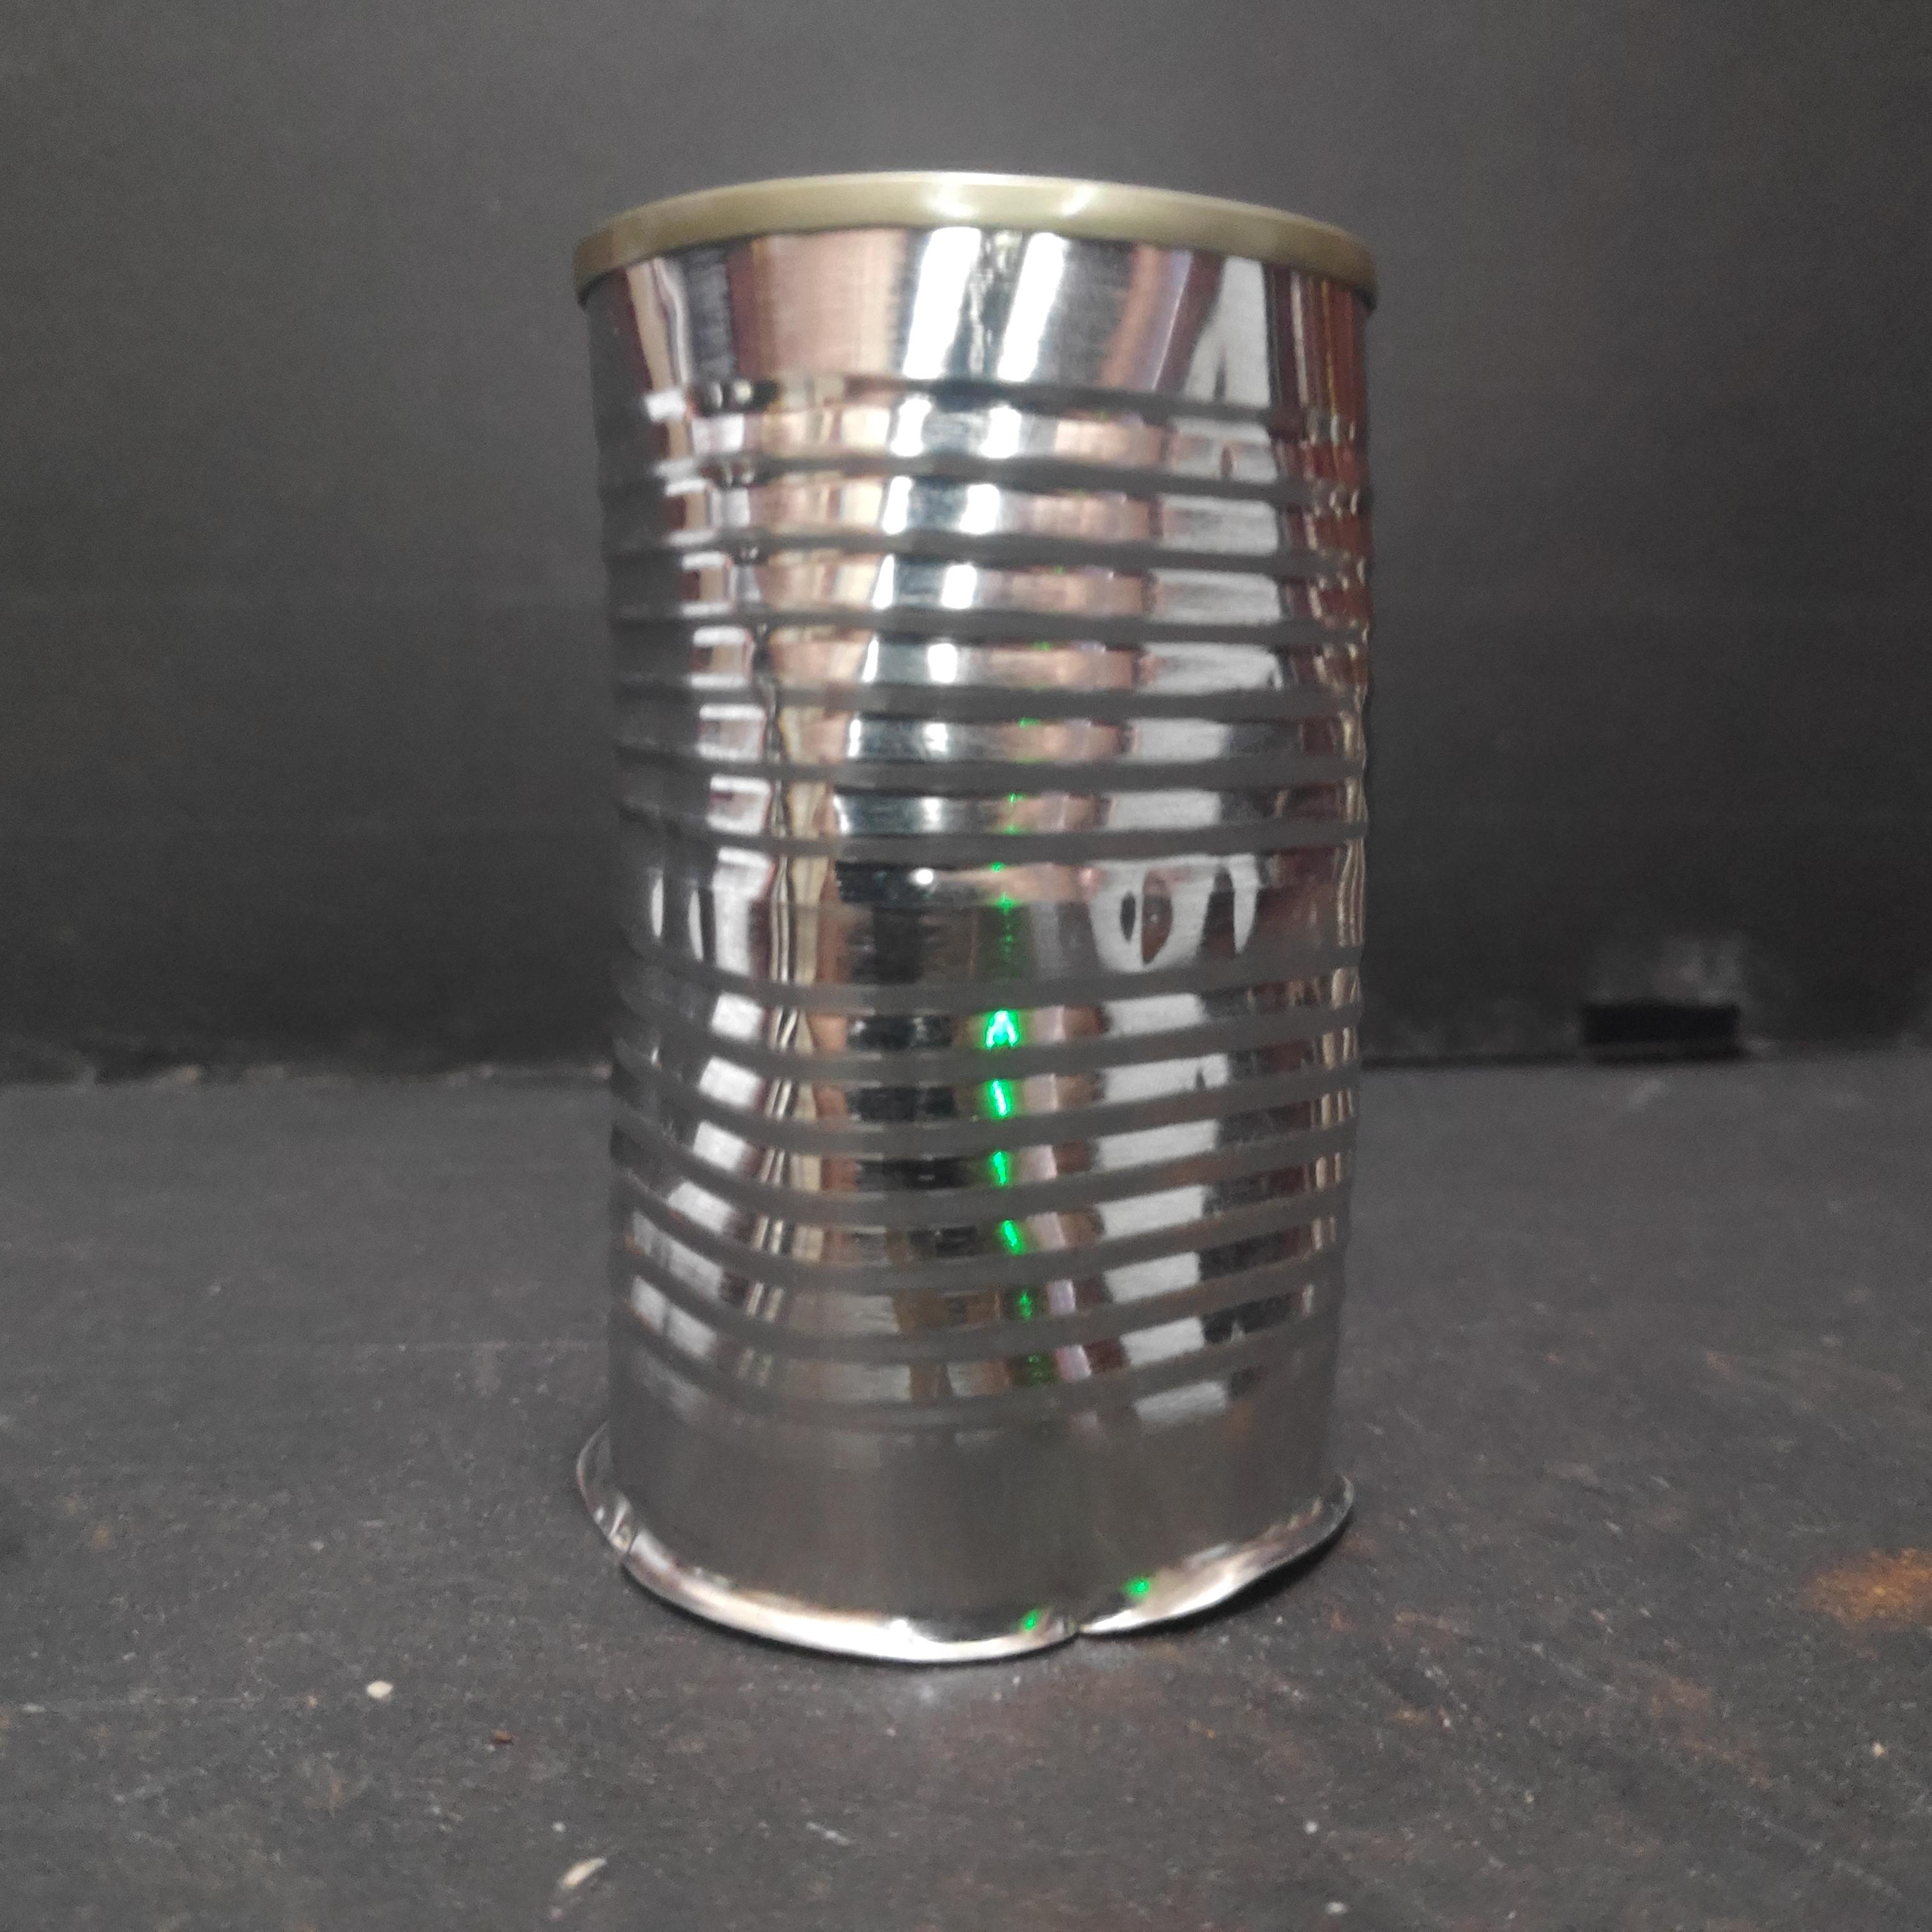Minor Defect: (566, 161, 1396, 1681)
